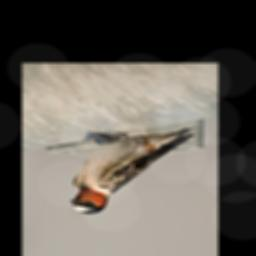Swallow: (69, 126, 197, 216)
